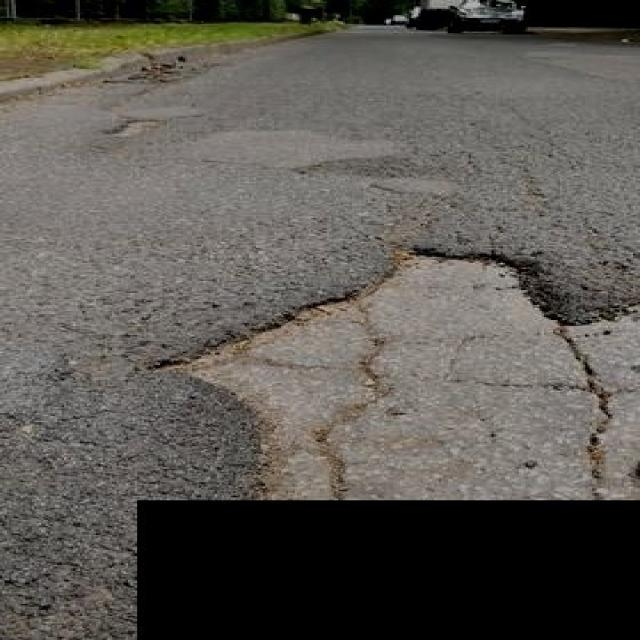road-pothole: (134, 240, 638, 508)
